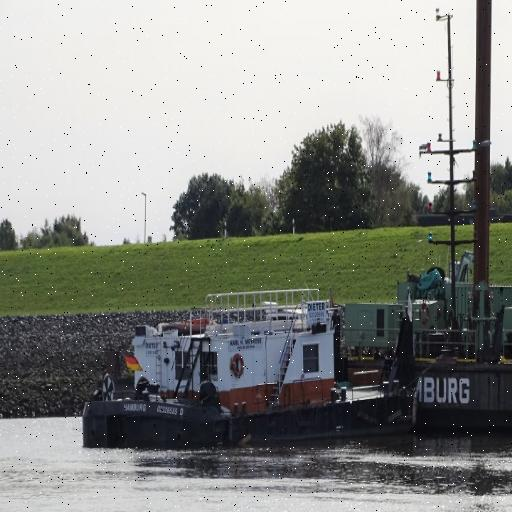tugboat: (81, 285, 423, 462)
